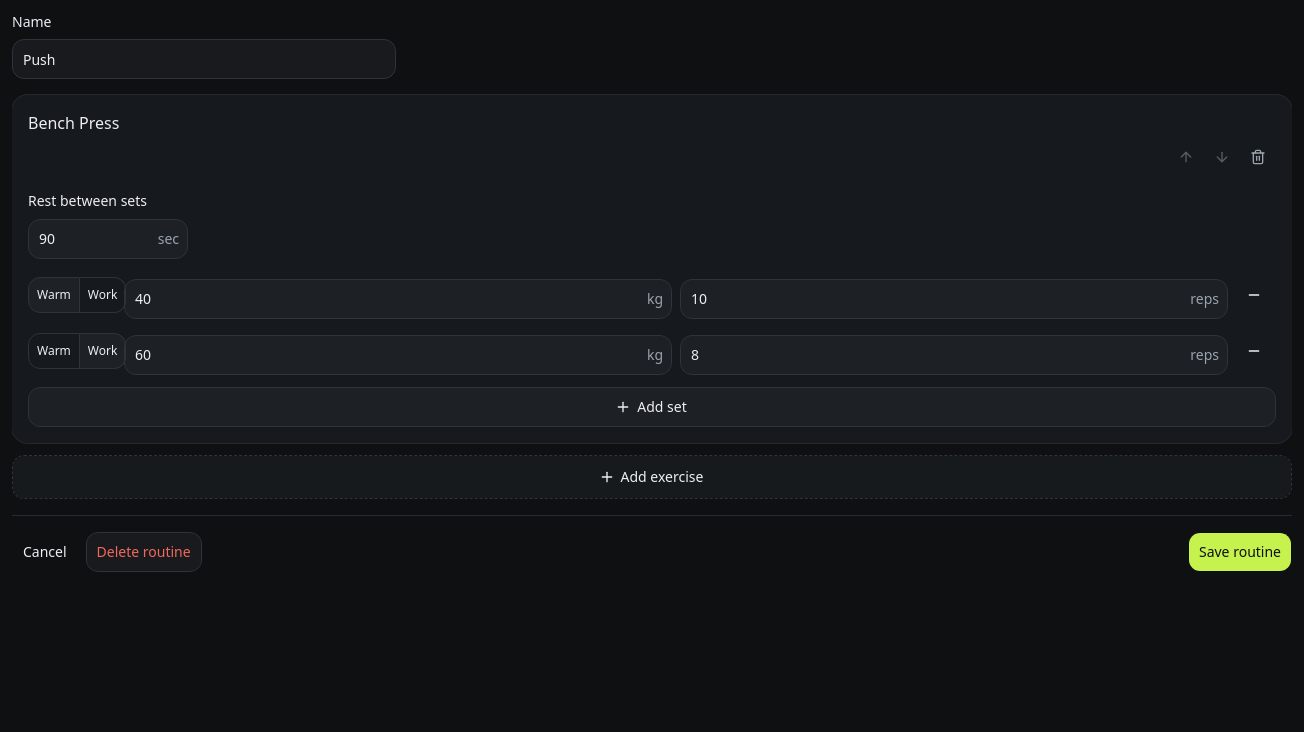
Scenario: RoutineEditor › won't save Rest between sets of 700, which the server would refuse
Replace the text in the field labelled "Rest between sets" with "700": {"x": 93, "y": 238} [29,222,158,254]
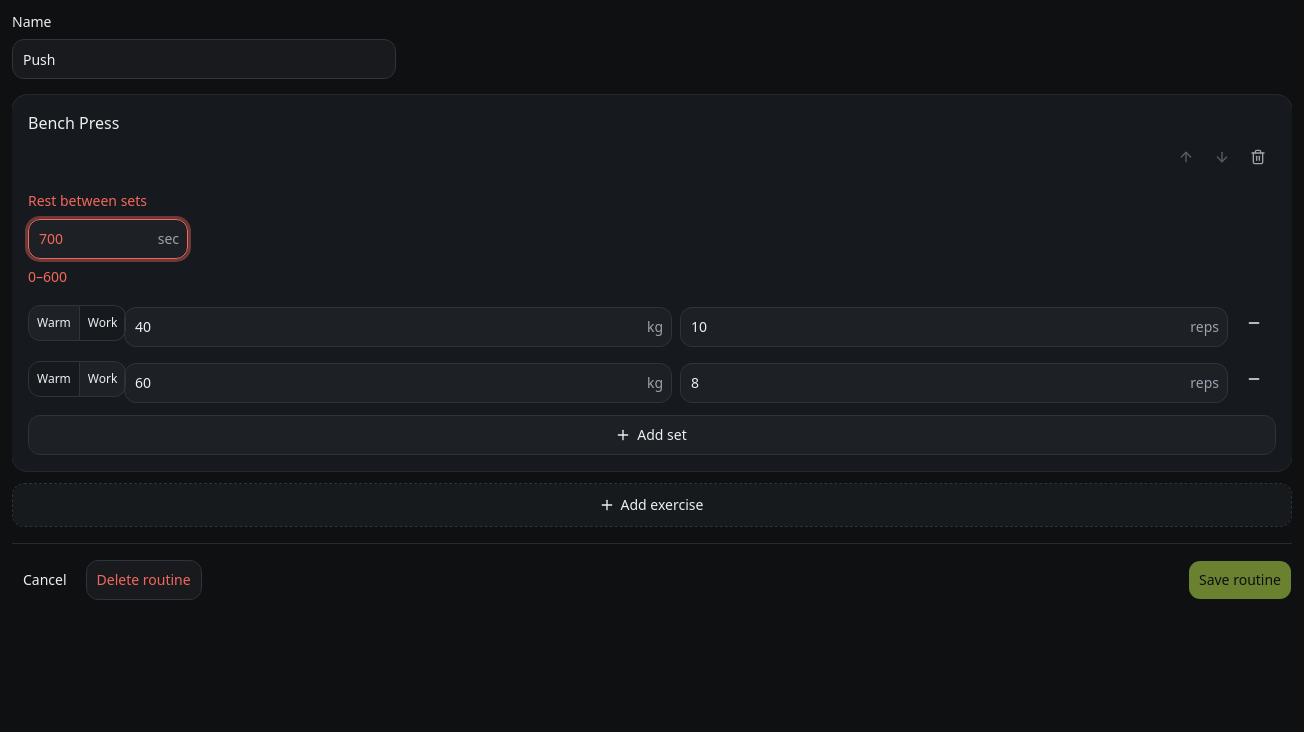
Expected: the text "0–600" is shown, [28,266,67,286]
Expected: the button "Save routine" is disabled, [1188,560,1292,600]
